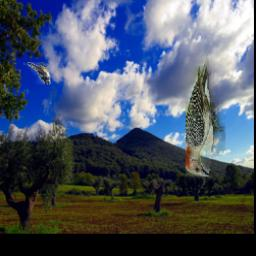Swallow: (22, 63, 50, 85)
Woodpecker: (185, 54, 224, 176)
